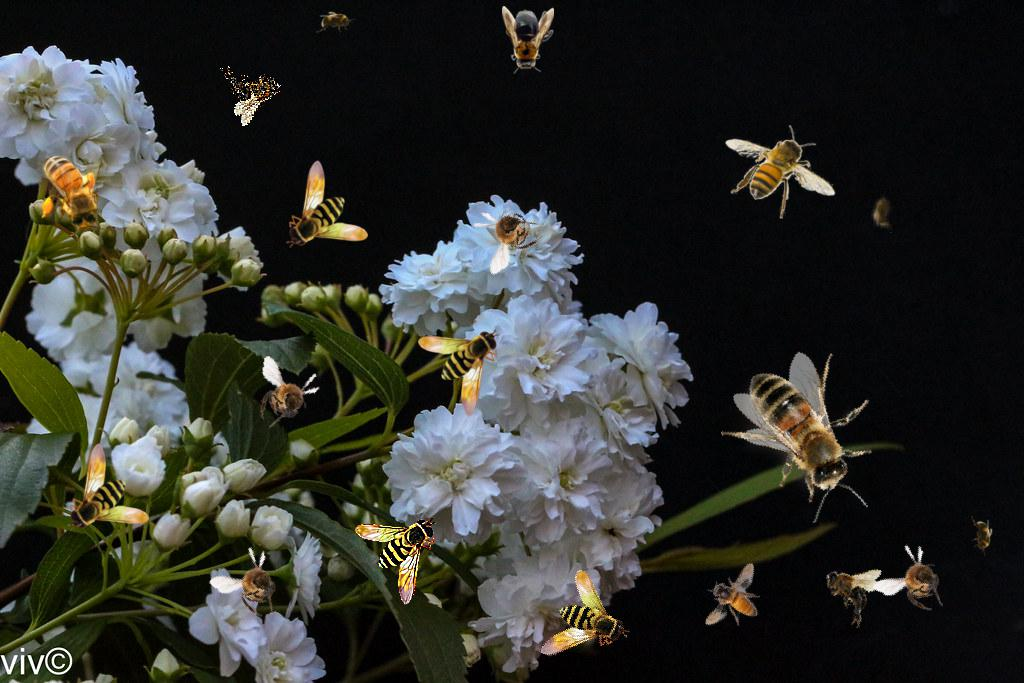Bee: (703, 328, 910, 538), (514, 564, 632, 680), (725, 125, 836, 219), (208, 536, 301, 630), (871, 535, 964, 623), (463, 188, 554, 276), (355, 517, 437, 605), (286, 160, 368, 248), (67, 443, 149, 531), (418, 329, 500, 417), (689, 561, 777, 640), (38, 143, 106, 236), (250, 355, 325, 437), (217, 50, 290, 128), (812, 552, 885, 630), (502, 6, 554, 74), (869, 190, 897, 234), (971, 516, 993, 556), (316, 11, 356, 33)
